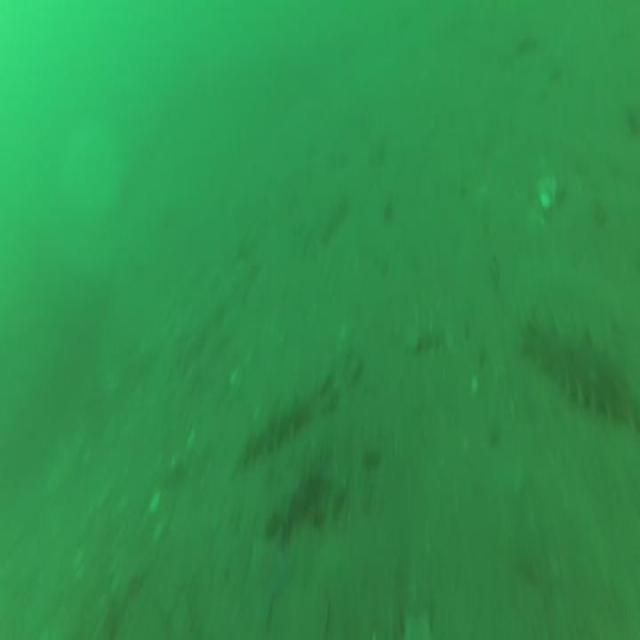holothurian: (524, 313, 636, 428), (266, 447, 327, 534), (232, 396, 308, 456)
starfish: (241, 547, 293, 627)
